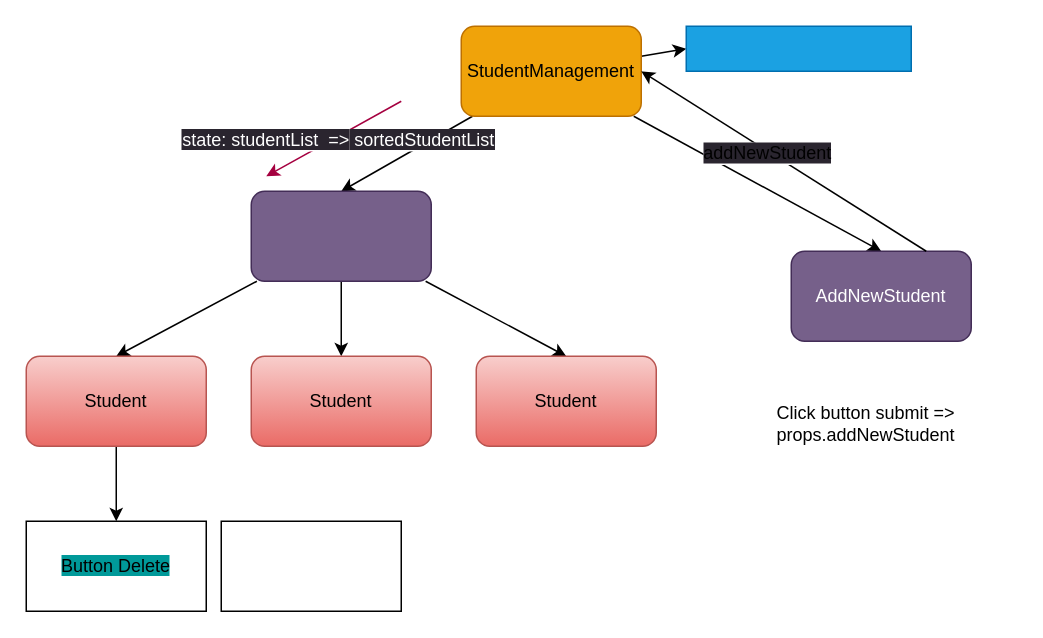
Image size: 1043x638. Some labels were removed from this diagram. Each missing label, with the centre of its shape:
"Button Update" belongs at [310,565].
"state: studentList" belongs at [798,48].
"StudentTable" belongs at [340,235].
